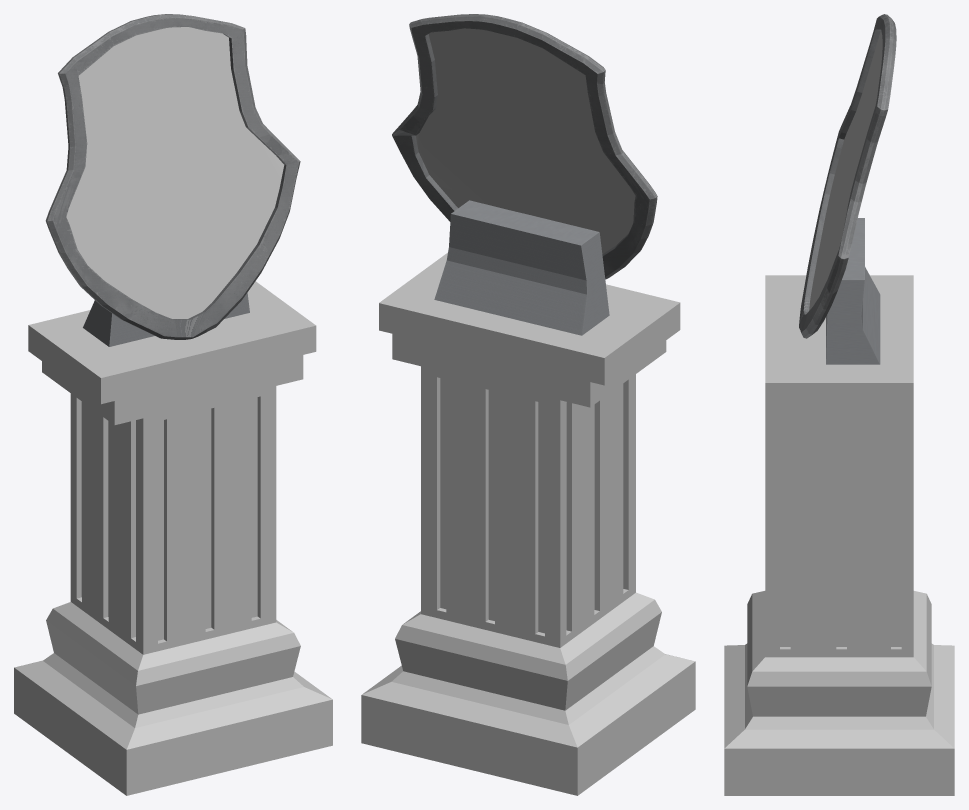
File: Shield.fbx
3 renders of one model, left to right at view 1: azimuth 30°, elevation 25°; view 2: azimuth 150°, elevation 25°; view 3: azimuth 270°, elevation 25°, orthographic. The views are drawn at different scales.
Visible parts, largest first — view 1: Shield; view 2: Shield; view 3: Shield.
Part boxes in pixels (bbox=[...]): Shield: bbox=[14, 14, 332, 795]; Shield: bbox=[361, 14, 695, 795]; Shield: bbox=[724, 14, 954, 795].
Size of the model in its own units: 128 by 337 by 98.84.
